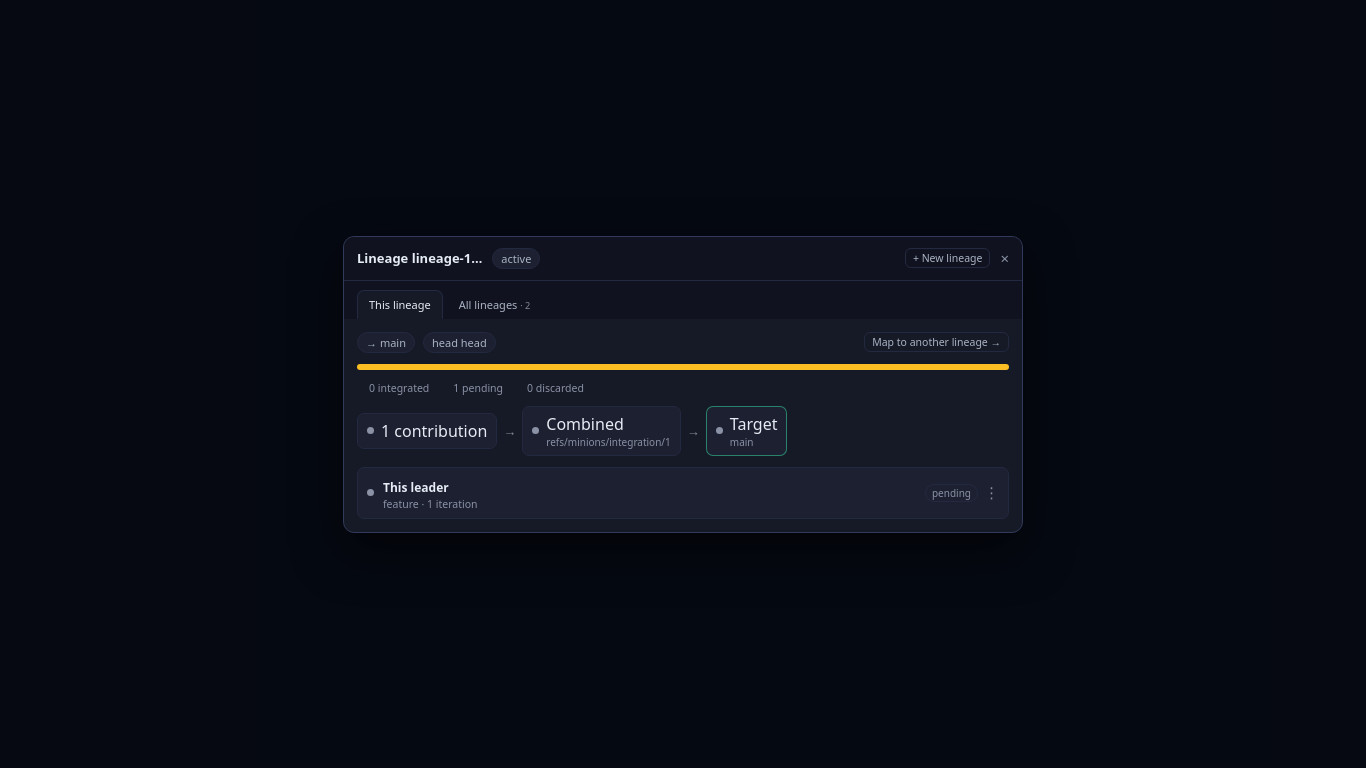
Test: <LineageModal /> › renders both tabs and switches to All lineages on click
Expected: the button "This lineage" is shown, [357,290,443,318]
Click the button "All lineages · 2" at x=494, y=304, box [447,290,542,318]
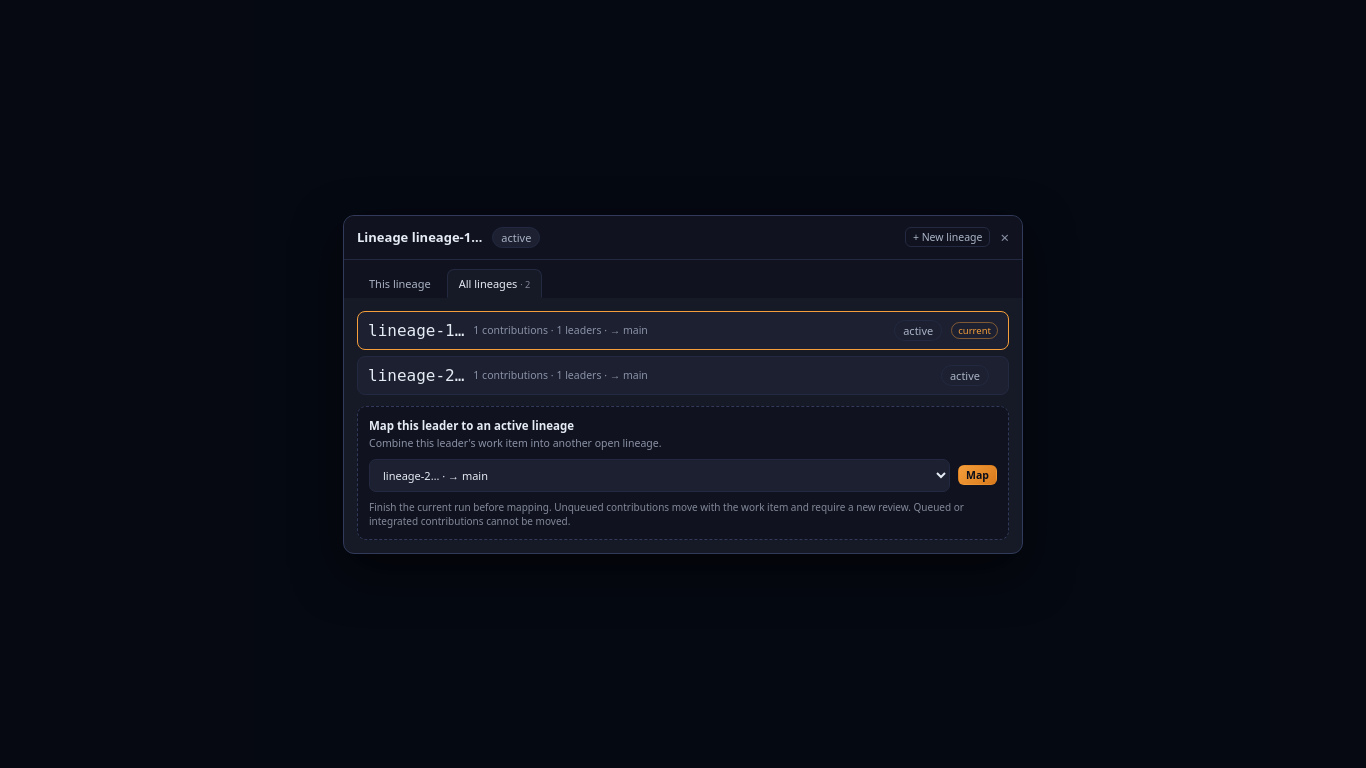
Expected: the button "Map" is shown, [958,465,997,485]
Result: the heading "Map this leader to an active lineage" is shown at [369,418,574,432]
